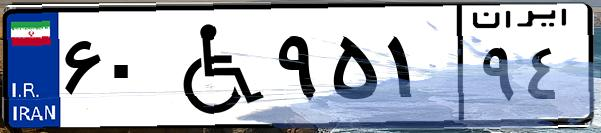0: (110, 28, 158, 98)
1: (385, 28, 445, 110)
4: (525, 38, 570, 115)
5: (330, 28, 385, 110)
6: (57, 26, 110, 100)
9: (270, 28, 330, 110), (475, 38, 525, 113)
ژ (معلولین و جانبازان): (158, 12, 270, 120)
